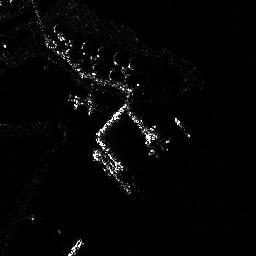ship: (91, 149, 132, 196)
